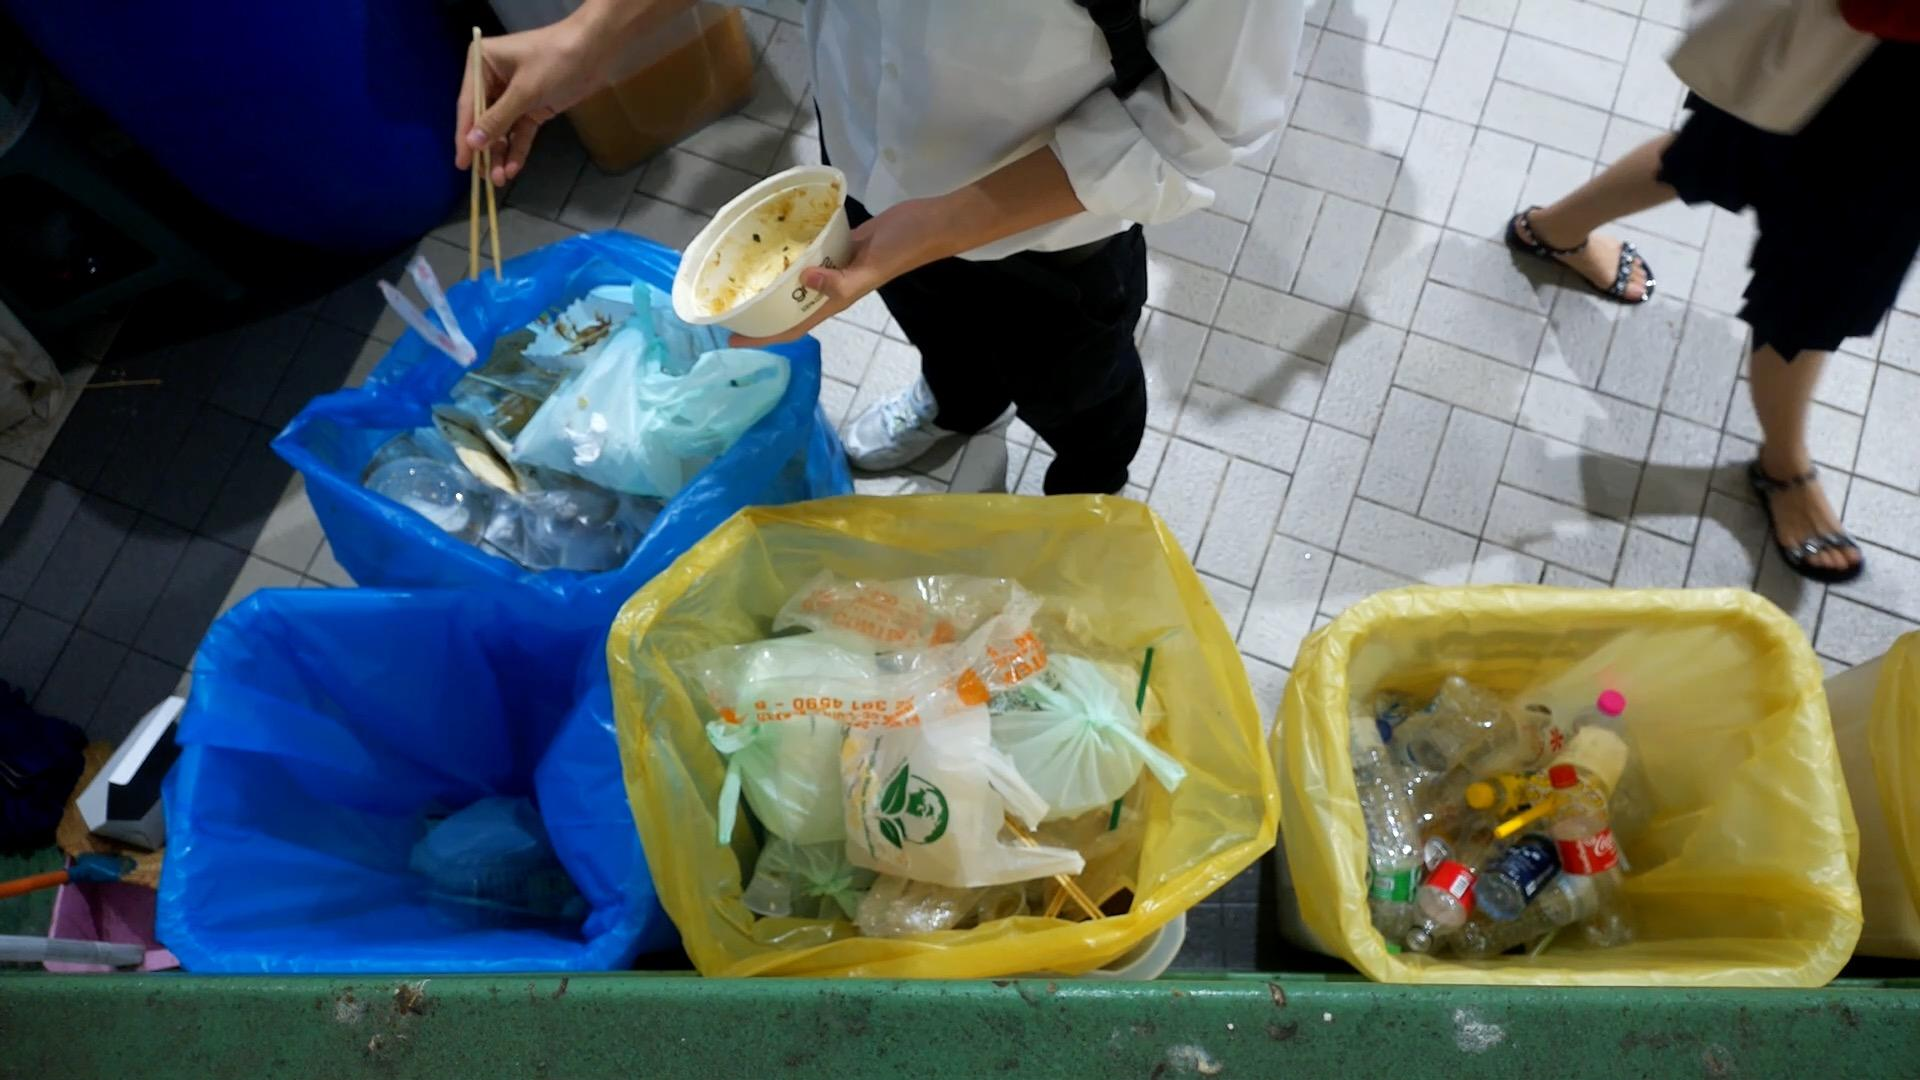filled plastic bag: (840, 673, 1088, 890), (502, 278, 682, 502), (708, 625, 880, 845), (993, 655, 1183, 823)
food container: (665, 160, 852, 340)
plastic bag: (703, 563, 1052, 745), (647, 349, 795, 452), (380, 257, 477, 368)
plastic bottle: (1543, 757, 1650, 955), (1340, 690, 1428, 877), (1390, 680, 1502, 795), (1404, 829, 1498, 957)
plastic cup: (1523, 712, 1638, 845), (1452, 698, 1575, 782)
sticks: (468, 20, 505, 290)
straw: (1105, 642, 1160, 837), (1495, 790, 1565, 840)
tissue paper: (572, 405, 617, 460)
